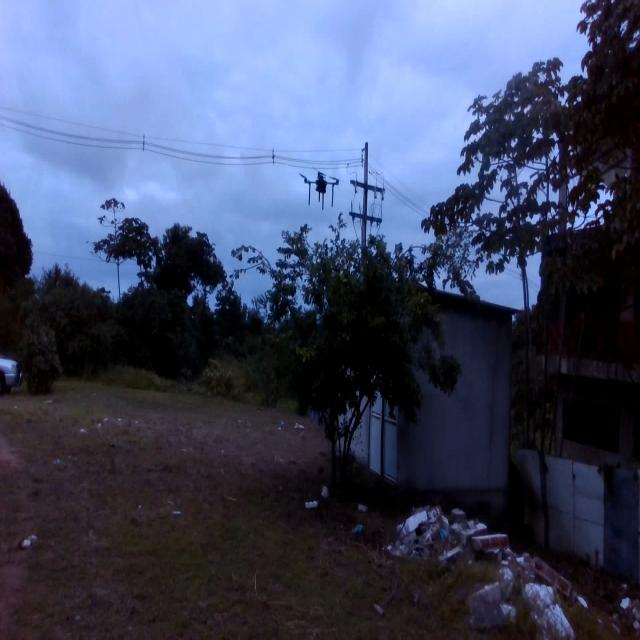-uav-: (292, 167, 342, 218)
